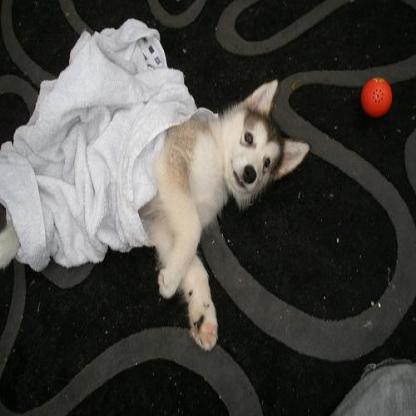malamute: (0, 76, 310, 352)
